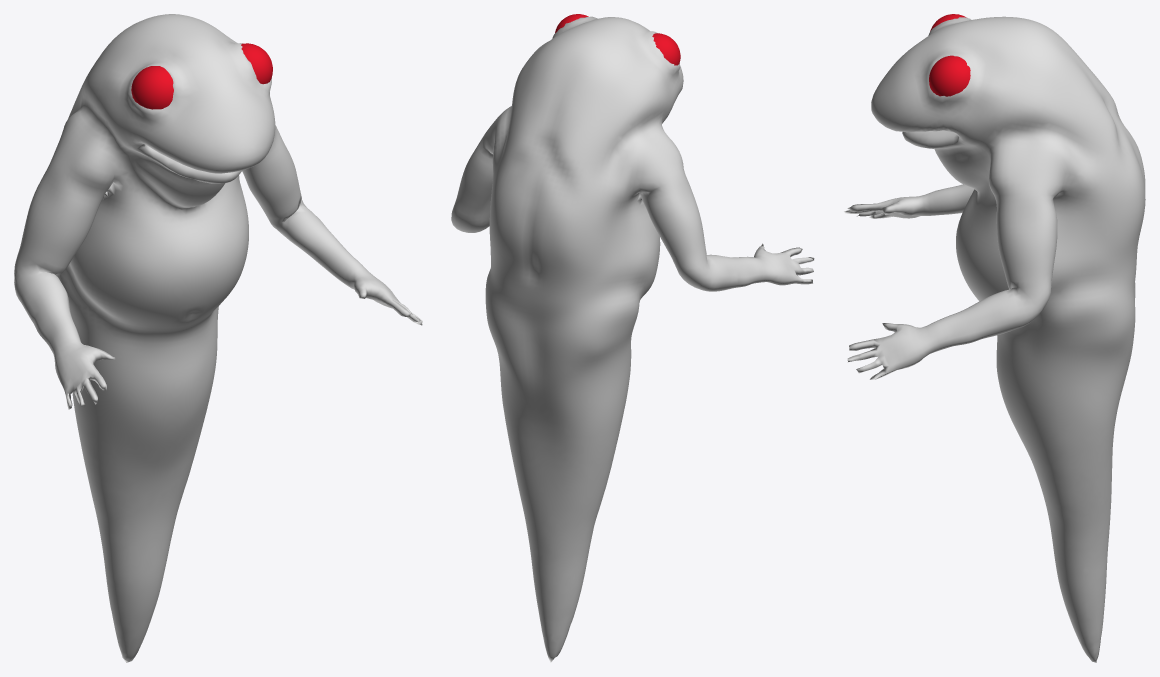
The model's file is GhostFrog.fbx.
3 views of the same model, side by side, from view 1: azimuth 30°, elevation 25°; view 2: azimuth 150°, elevation 25°; view 3: azimuth 270°, elevation 25° (orthographic). The views are drawn at different scales.
Visible parts, largest first — view 1: GhostFrog2, Eyes; view 2: GhostFrog2, Eyes; view 3: GhostFrog2, Eyes.
Part boxes in pixels (x1=…): GhostFrog2: x1=14, y1=14, x2=422, y2=662; Eyes: x1=131, y1=43, x2=272, y2=109; GhostFrog2: x1=451, y1=16, x2=814, y2=662; Eyes: x1=555, y1=14, x2=680, y2=65; GhostFrog2: x1=844, y1=16, x2=1145, y2=662; Eyes: x1=929, y1=14, x2=970, y2=96.
Bounding box in the file's own units: 24.42 × 44.67 × 19.13.
